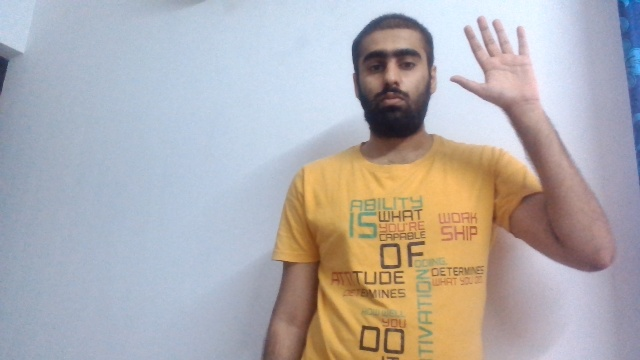paper: (448, 14, 544, 108)
